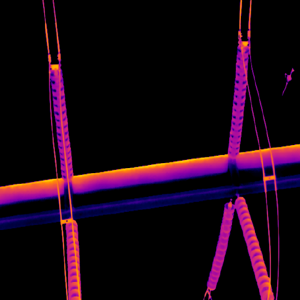insulator: (233, 194, 274, 300), (225, 41, 251, 159), (49, 66, 74, 181), (203, 202, 234, 290), (63, 219, 80, 300)
